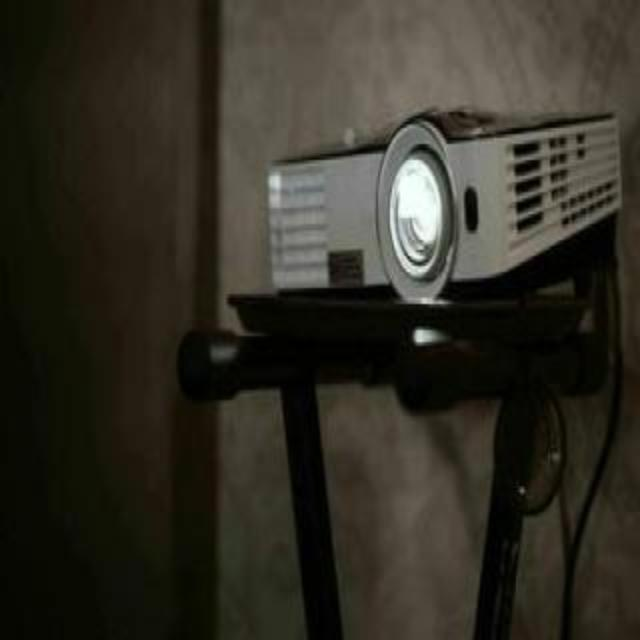Projector: (268, 102, 622, 302)
